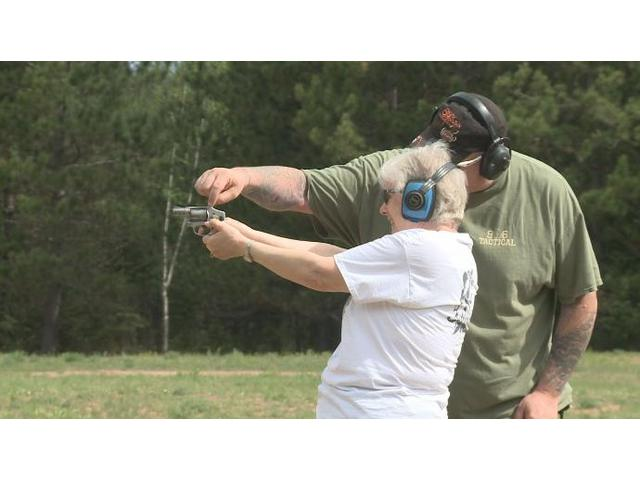pistol: (172, 205, 228, 256)
